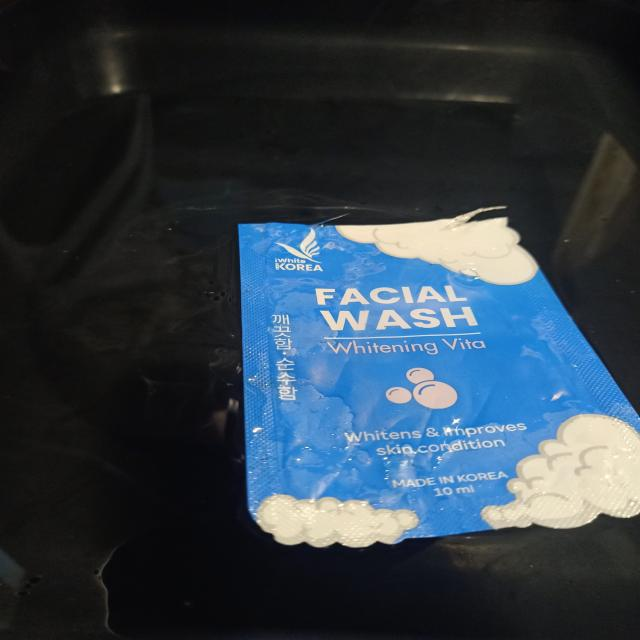Plastic Wrapper: (238, 208, 640, 547)
